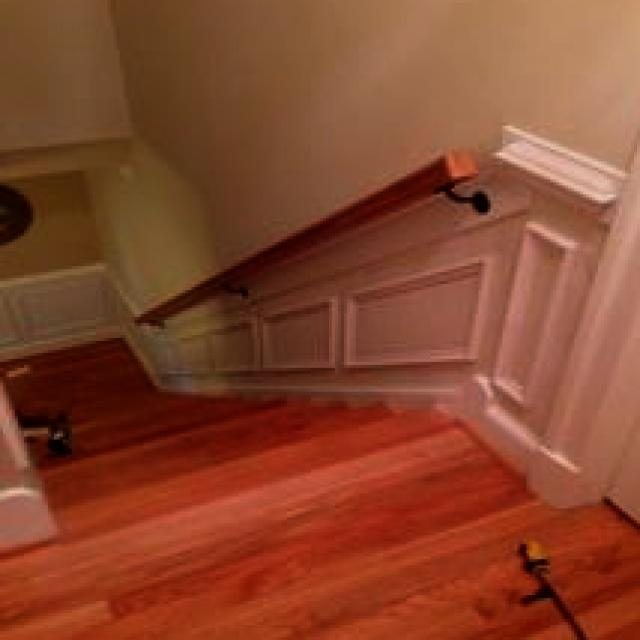downstair: (22, 345, 488, 539)
